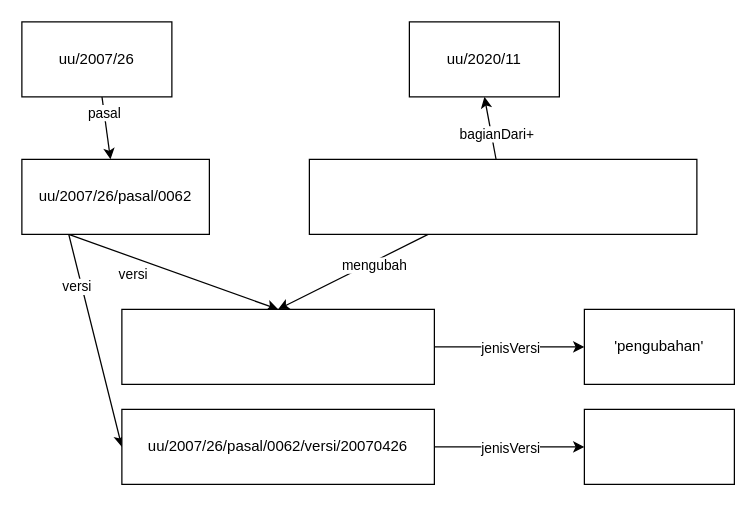
This 756x506 diagram has some shape labels left out. Here are the shapes that lost their labels. From the top down, the box of each, then its label:
(308, 158, 697, 234): uu/2020/11/pasal/0017/versi/20201102/huruf/0003
(121, 308, 434, 384): uu/2007/26/pasal/0062/versi/20201102
(583, 408, 734, 484): 'orisinal'
